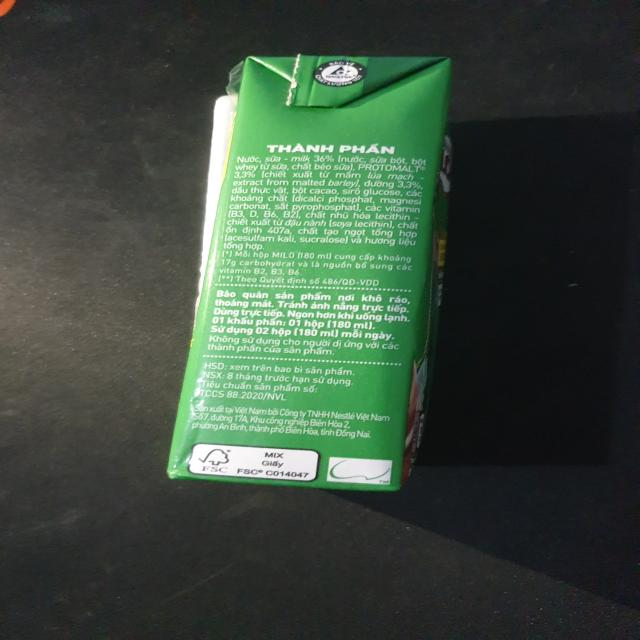Milo: (161, 50, 466, 500)
